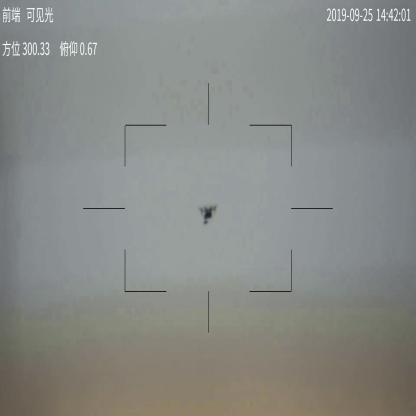uav: (198, 203, 219, 228)
